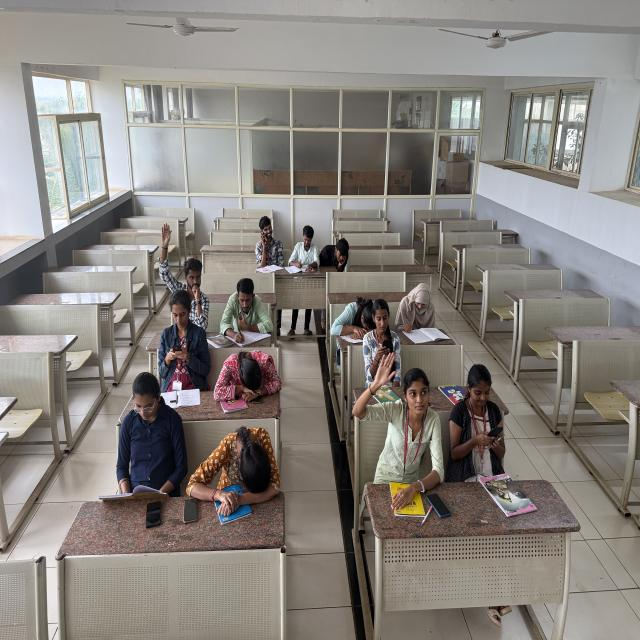Hand Rising: (348, 350, 444, 461), (142, 204, 222, 337)
Reading: (90, 355, 173, 505)
Sleeping: (204, 398, 296, 582), (211, 335, 282, 415), (326, 287, 379, 347)
Using Phone: (136, 276, 208, 380), (232, 202, 290, 291), (364, 299, 400, 372), (323, 219, 352, 277)
Writing: (224, 252, 282, 358), (396, 273, 459, 358), (283, 225, 320, 279)
